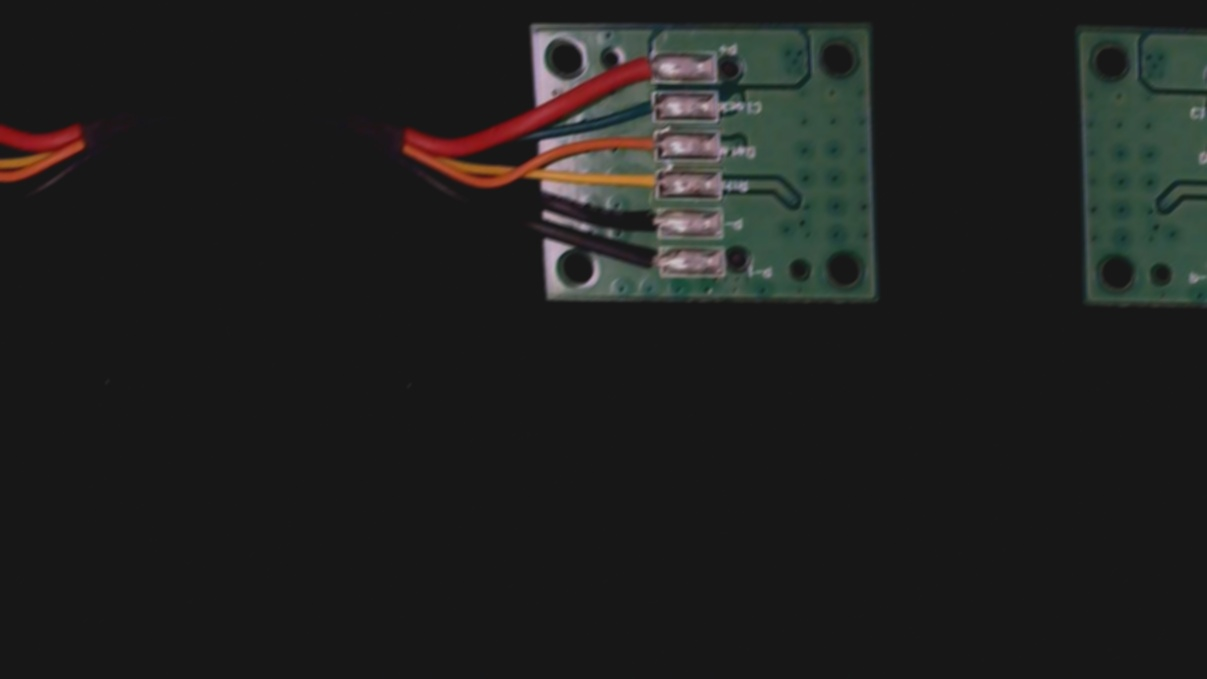Black: (600, 203, 678, 241)
Black1: (617, 245, 680, 278)
Green: (607, 90, 671, 128)
Orange: (610, 128, 673, 161)
Red: (605, 52, 670, 86)
Yellow: (612, 166, 674, 201)
